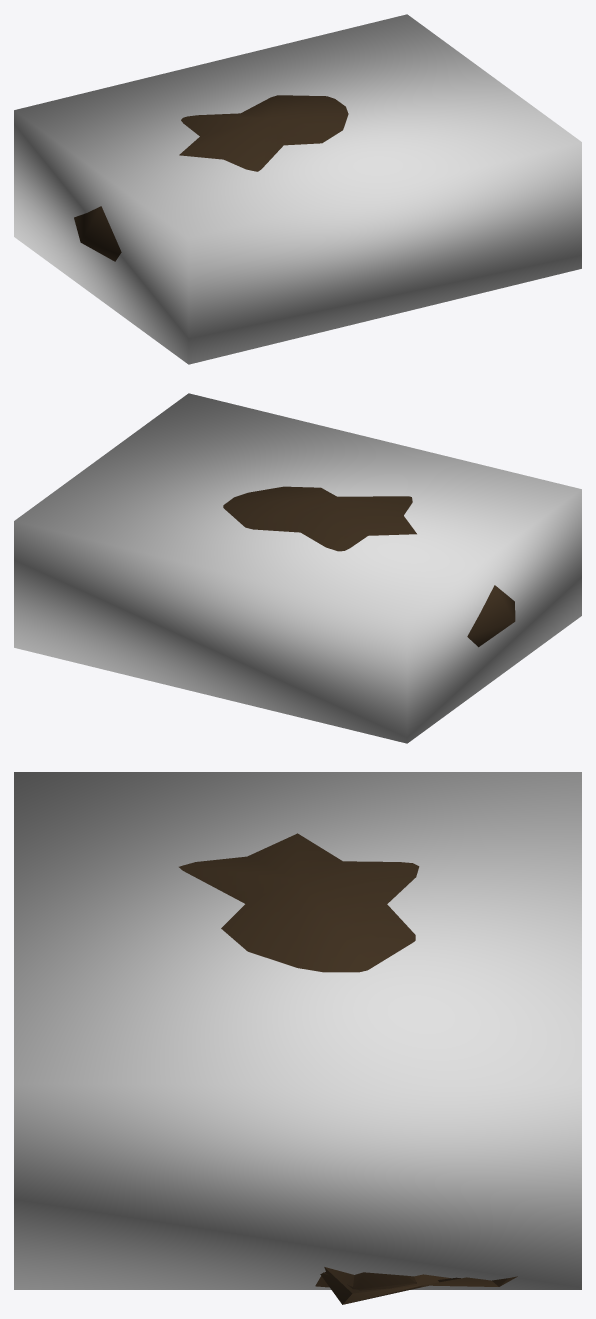
File: trapo.glb
3 renders of one model, top to bottom at view 1: azimuth 30°, elevation 25°; view 2: azimuth 150°, elevation 25°; view 3: azimuth 270°, elevation 25°, orthographic. The views are drawn at different scales.
Visible parts, largest first — view 1: trapo-colcaja, trapo; view 2: trapo-colcaja, trapo; view 3: trapo-colcaja, trapo.
Boxes of the visible parts, x1,y1,x2,y2 form: trapo-colcaja: (14,14,581,364); trapo: (74,95,348,261); trapo-colcaja: (14,393,581,743); trapo: (223,486,515,647); trapo-colcaja: (14,772,581,1289); trapo: (179,833,517,1304).
Size of the model in its own units: 0.2993 by 0.0967 by 0.2.
